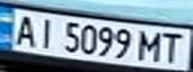0: (78, 21, 96, 56)
5: (57, 19, 84, 54)
9: (112, 26, 136, 61), (97, 24, 118, 57)
A: (9, 11, 42, 47)
I: (33, 15, 60, 51)
M: (136, 28, 166, 63)
T: (157, 29, 187, 64)
